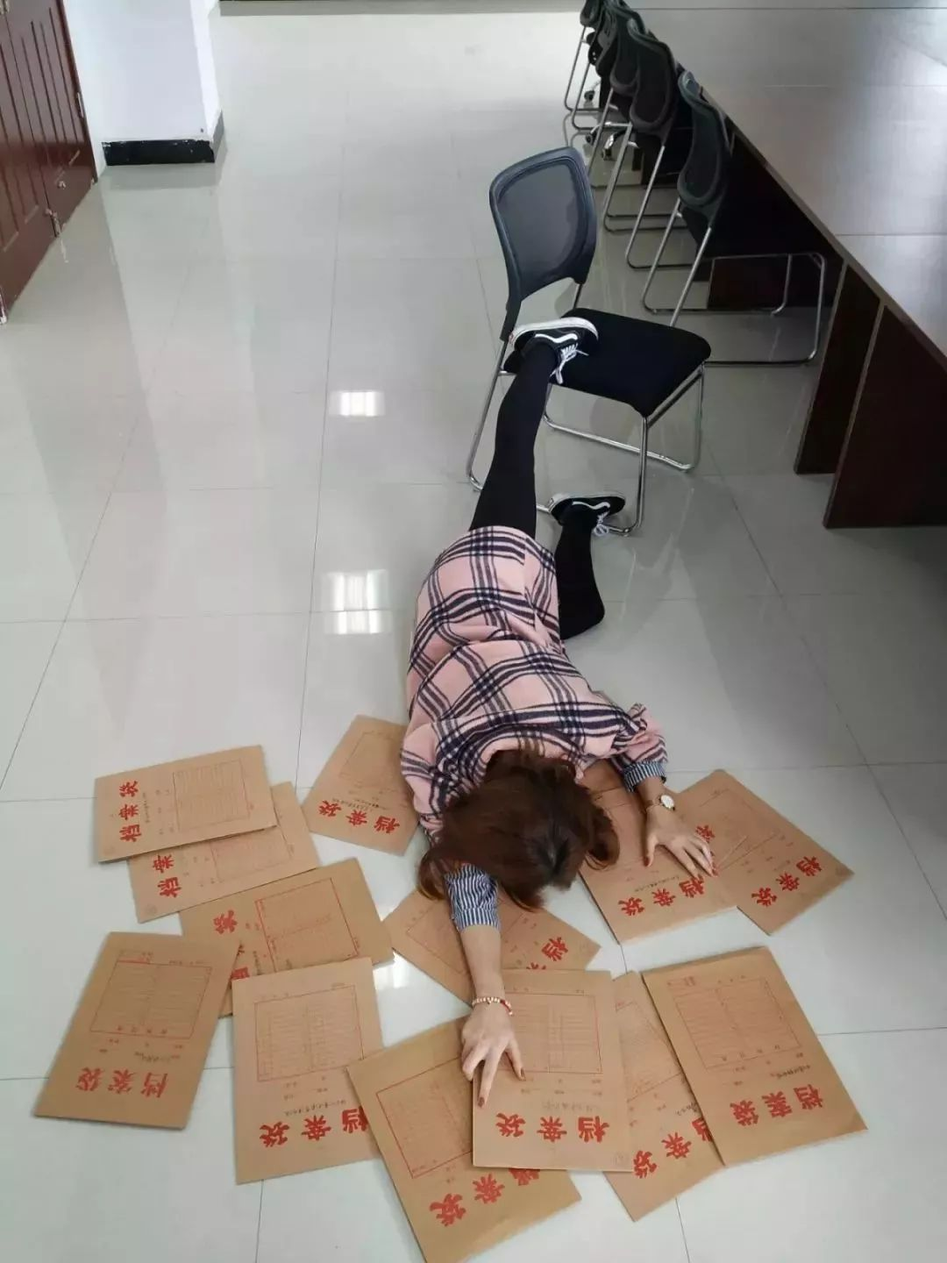down: (388, 289, 723, 1123)
